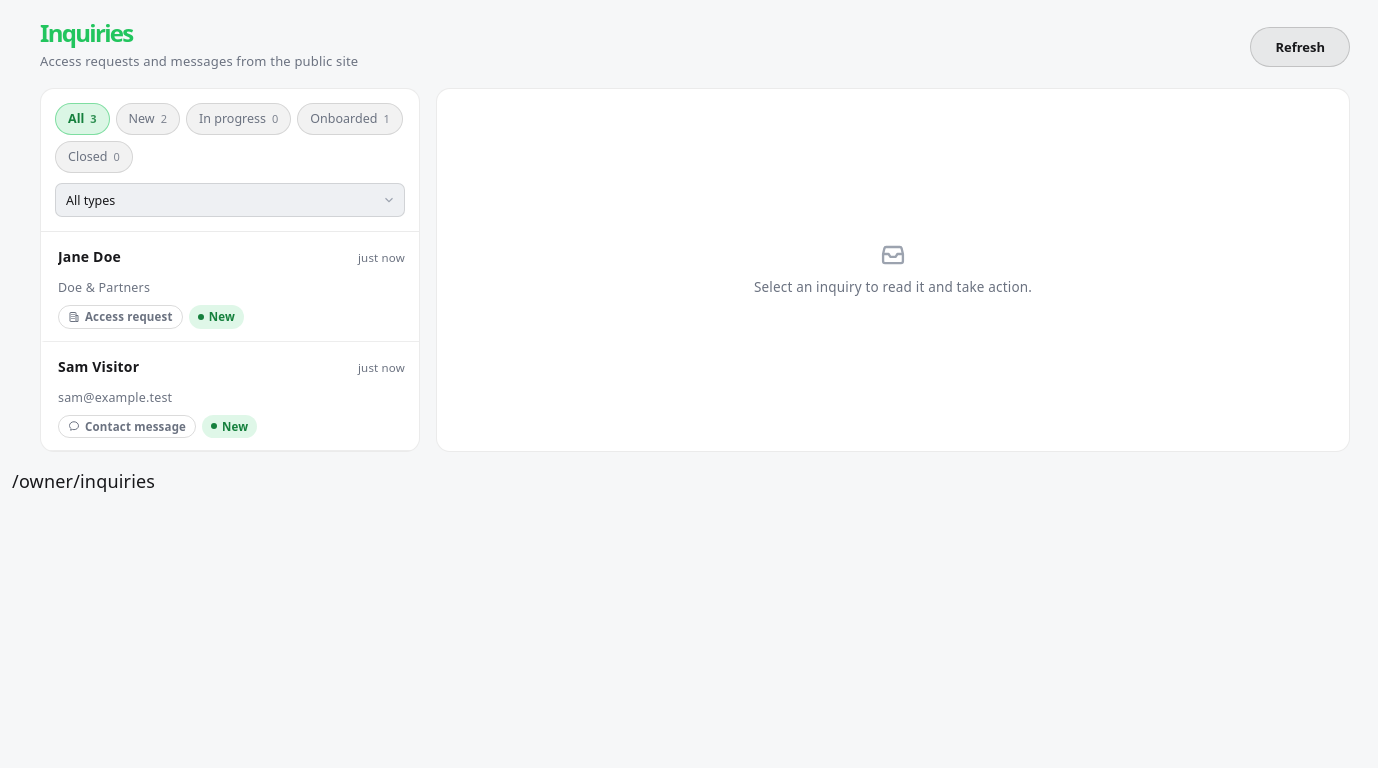
Owner inquiries › opens a detail view with mailto and tel links
Click the link "Jane Doe just now Doe & Partners Access request New": point(89, 257) [41,232,419,342]
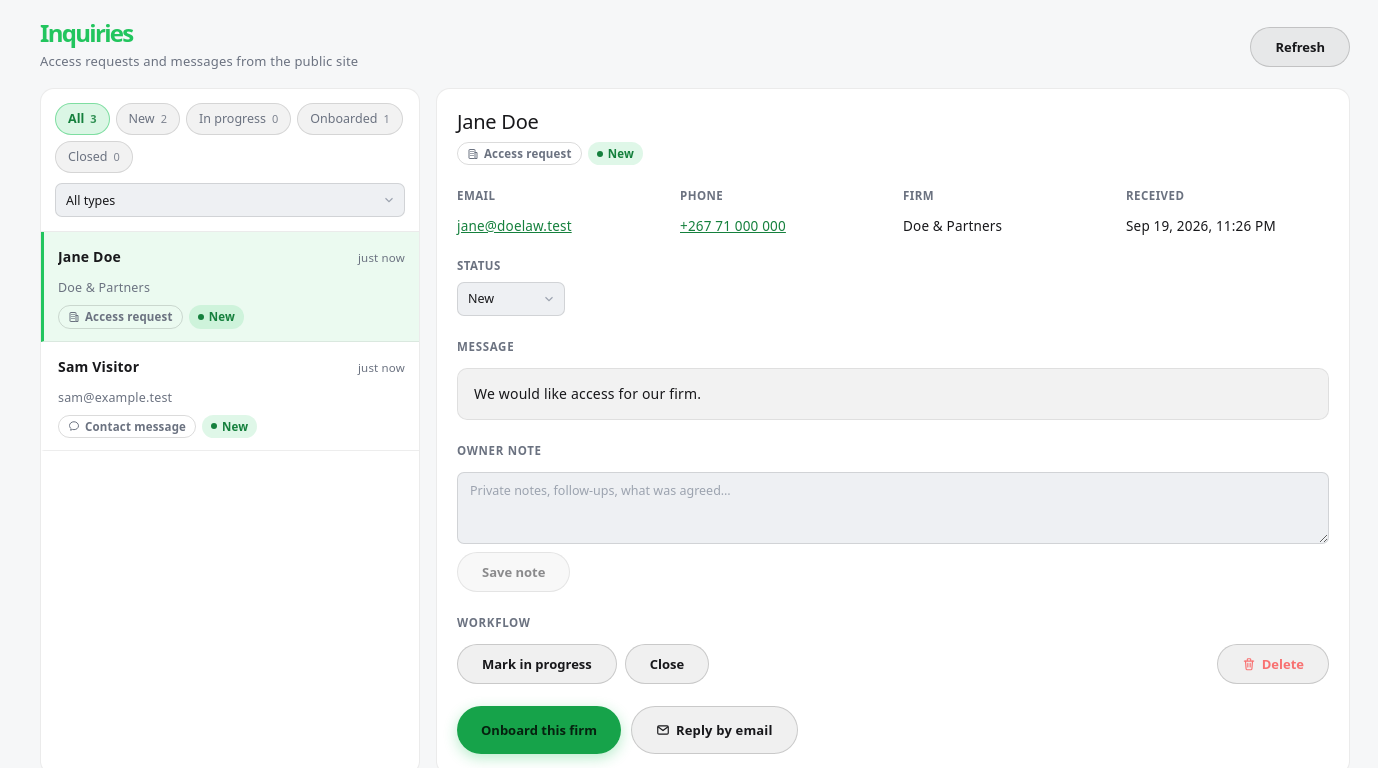
Expected: the heading "Jane Doe" is shown, [457,108,539,135]
Expected: the text "We would like access for our firm." is shown, [457,368,1329,420]
